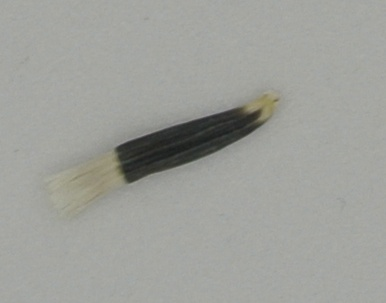เมล็ดดีติดกัน: (37, 90, 282, 224)
